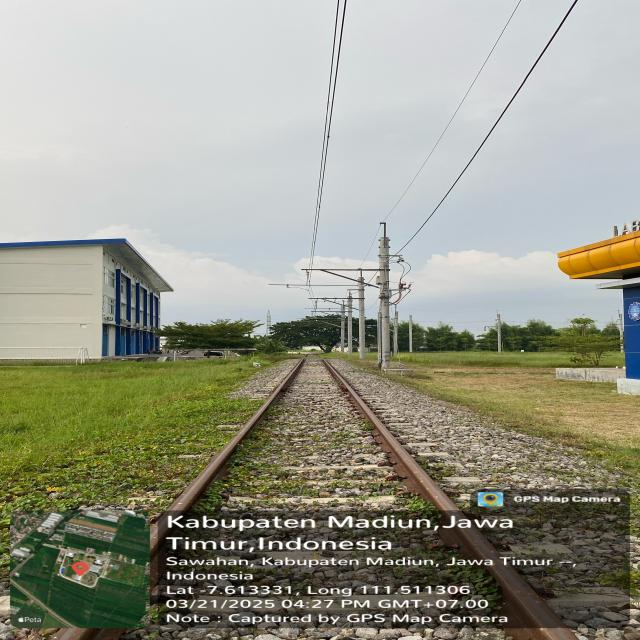rail-detection: (322, 360, 577, 640), (167, 360, 304, 511), (151, 530, 165, 555)
